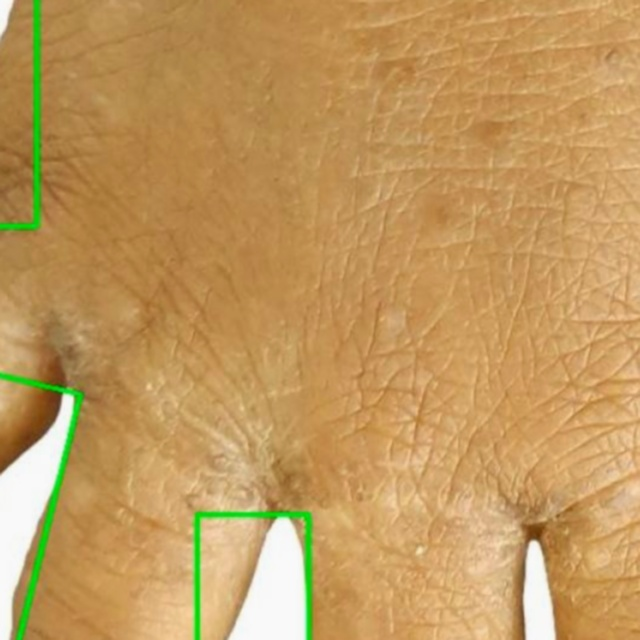Scabies: (197, 514, 308, 639)
